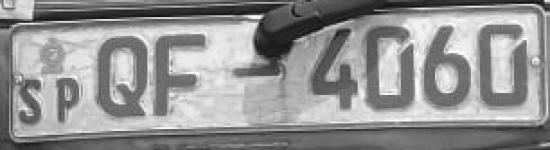-: (230, 61, 285, 83)
0: (476, 19, 531, 111), (363, 24, 418, 114)
4: (311, 25, 362, 110)
6: (419, 21, 476, 111)
F: (152, 29, 210, 122)
P: (54, 73, 84, 126)
Q: (96, 31, 151, 123)
S: (16, 77, 48, 129)
